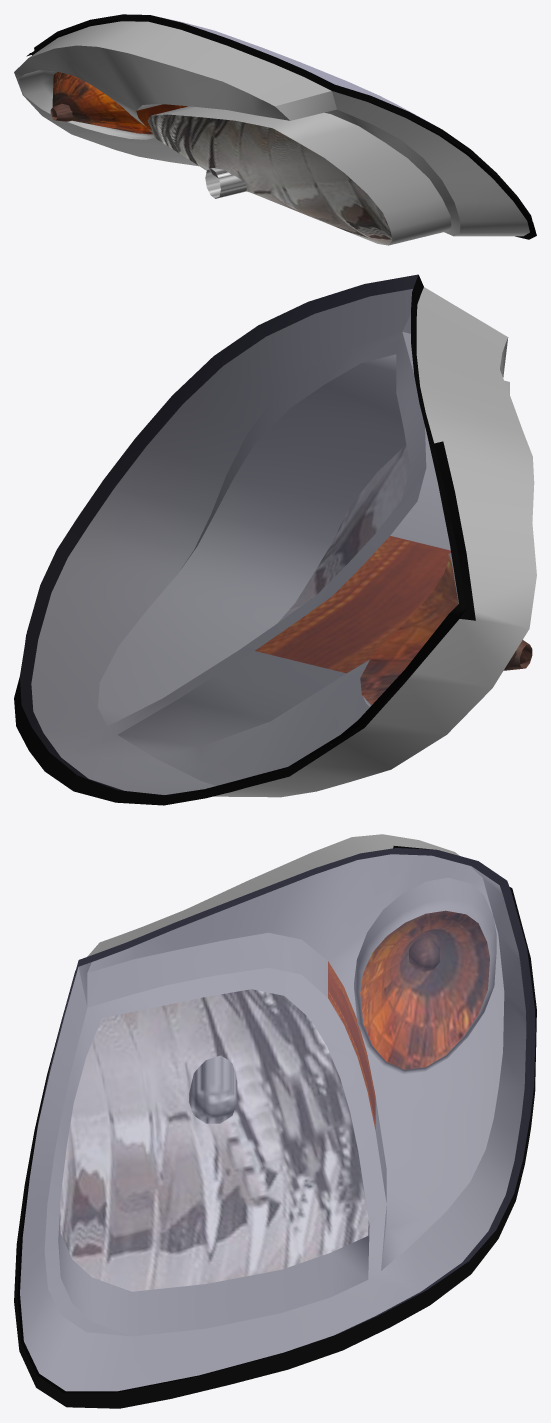
3 views of the same model, one above another, from view 1: azimuth 30°, elevation 25°; view 2: azimuth 150°, elevation 25°; view 3: azimuth 270°, elevation 25° (orthographic). The views are drawn at different scales.
Visible parts, largest first — view 1: U236_17_061B_L_U236_17_061B_L_2_N, U236_17_061B_L_U236_17_061B_L_3_N, U236_17_061B_L_4_D_U236_17_061B_L, U236_17_061B_L_U236_17_061B_L_1_DTaSI; view 2: U236_17_061B_L_U236_17_061B_L_2_N, U236_17_061B_L_U236_17_061B_L_1_DTaSI, U236_17_061B_L_U236_17_061B_L_3_N, U236_17_061B_L_4_D_U236_17_061B_L; view 3: U236_17_061B_L_U236_17_061B_L_1_DTaSI, U236_17_061B_L_U236_17_061B_L_2_N, U236_17_061B_L_U236_17_061B_L_3_N, U236_17_061B_L_4_D_U236_17_061B_L.
Boxes of the visible parts, left/top/right/bottom form: U236_17_061B_L_U236_17_061B_L_2_N: left=14, top=21, right=529, bottom=245; U236_17_061B_L_U236_17_061B_L_3_N: left=50, top=72, right=392, bottom=245; U236_17_061B_L_4_D_U236_17_061B_L: left=26, top=14, right=536, bottom=239; U236_17_061B_L_U236_17_061B_L_1_DTaSI: left=159, top=17, right=431, bottom=123; U236_17_061B_L_U236_17_061B_L_2_N: left=31, top=287, right=536, bottom=797; U236_17_061B_L_U236_17_061B_L_1_DTaSI: left=20, top=275, right=458, bottom=794; U236_17_061B_L_U236_17_061B_L_3_N: left=255, top=445, right=532, bottom=704; U236_17_061B_L_4_D_U236_17_061B_L: left=14, top=274, right=475, bottom=805; U236_17_061B_L_U236_17_061B_L_1_DTaSI: left=20, top=848, right=535, bottom=1390; U236_17_061B_L_U236_17_061B_L_2_N: left=20, top=834, right=526, bottom=1391; U236_17_061B_L_U236_17_061B_L_3_N: left=59, top=910, right=489, bottom=1291; U236_17_061B_L_4_D_U236_17_061B_L: left=14, top=846, right=536, bottom=1408.
Size of the model in its own units: 40.97 by 23.58 by 31.95.
